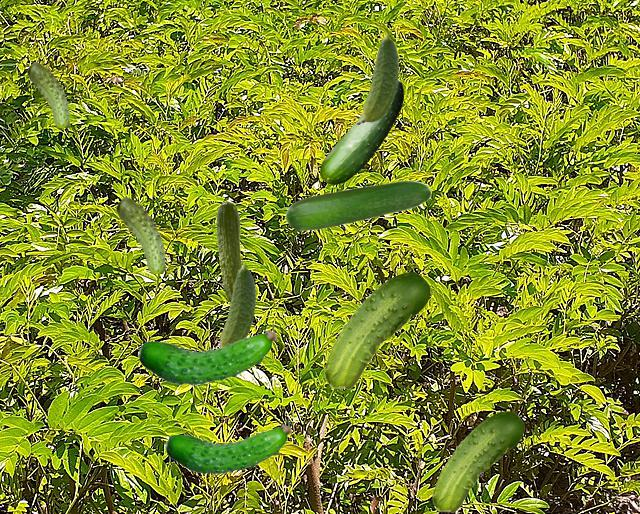cucumber: (324, 272, 429, 388), (432, 411, 523, 511), (137, 323, 275, 385), (320, 80, 402, 183), (285, 180, 430, 230), (164, 418, 290, 474), (357, 33, 398, 123), (116, 197, 165, 272), (219, 263, 255, 347), (27, 62, 69, 126), (216, 201, 242, 303)
